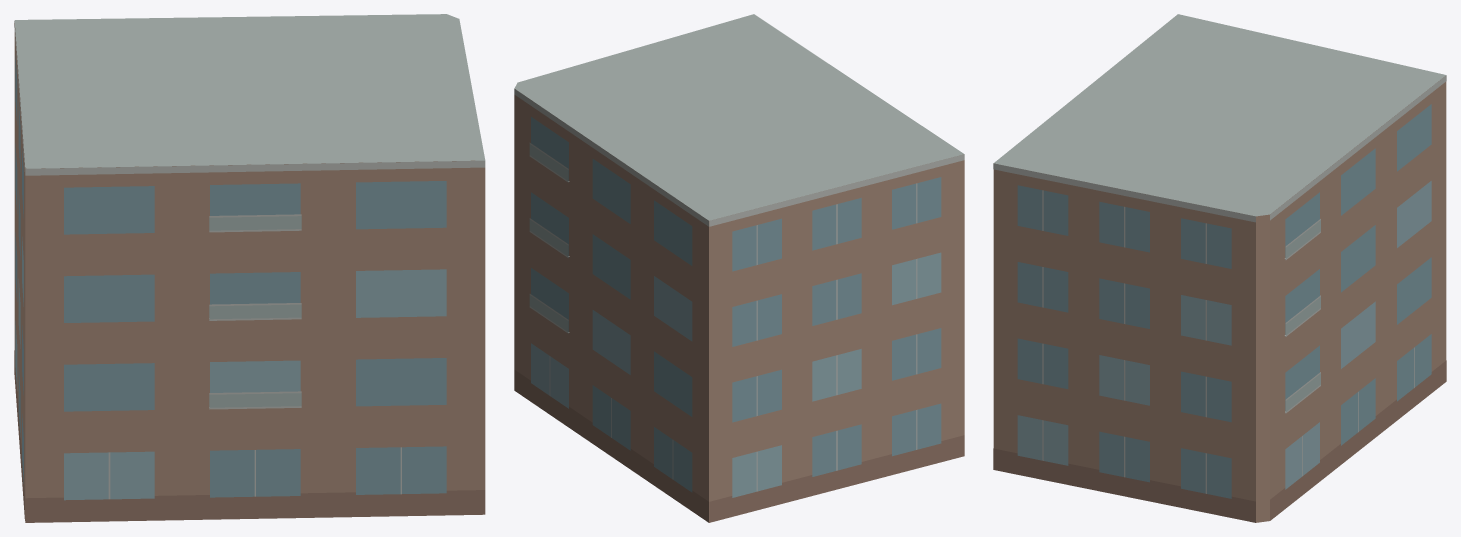
File: survey-upis-32658625.glb
3 views of the same model, side by side, from view 1: azimuth 30°, elevation 25°; view 2: azimuth 150°, elevation 25°; view 3: azimuth 270°, elevation 25° (orthographic). The views are drawn at different scales.
Parts seen in each view (by area): view 1: survey-upis-32658625.tmp; view 2: survey-upis-32658625.tmp; view 3: survey-upis-32658625.tmp.
Boxes of the visible parts, box(x1,y1,x2,y2) form: survey-upis-32658625.tmp: box(14, 14, 485, 522); survey-upis-32658625.tmp: box(514, 14, 964, 522); survey-upis-32658625.tmp: box(993, 14, 1446, 522).
Size of the model in its own units: 17.43 by 12.3 by 16.49.
